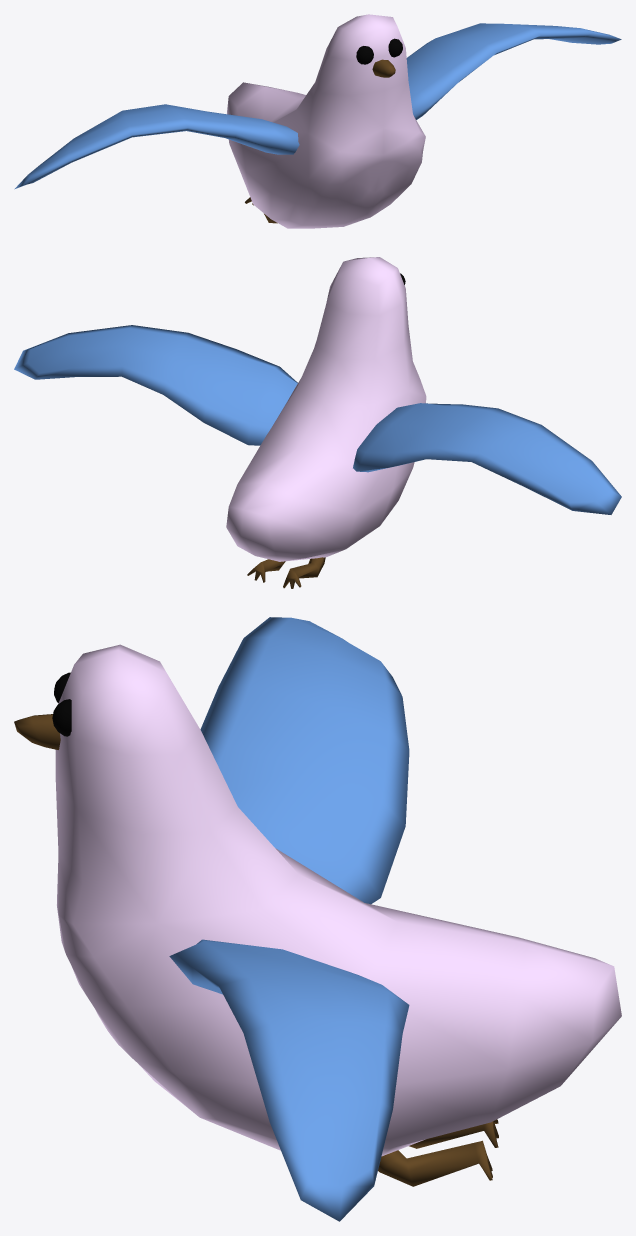
File: bird.glb
The picture shows the model from 3 angles, top to bottom: view 1: azimuth 30°, elevation 25°; view 2: azimuth 150°, elevation 25°; view 3: azimuth 270°, elevation 25°; orthographic projection. The views are drawn at different scales.
Visible parts, largest first — view 1: Cube, Cube.002, Cube.003; view 2: Cube, Cube.002, Cylinder.001; view 3: Cube, Cube.002, Cylinder, Cube.003, Cylinder.001.
Part boxes in pixels (x1,y1,x2,y2): Cube: (227,14,425,228); Cube.002: (14,23,621,189); Cube.003: (372,59,395,77); Cube: (226,257,426,561); Cube.002: (14,325,621,514); Cylinder.001: (283,557,325,588); Cube: (55,644,621,1156); Cube.002: (169,617,409,1221); Cylinder: (378,1140,492,1186); Cube.003: (14,714,60,749); Cylinder.001: (409,1119,498,1148).
Size of the model in its own units: 9.36 by 3.91 by 4.16.
